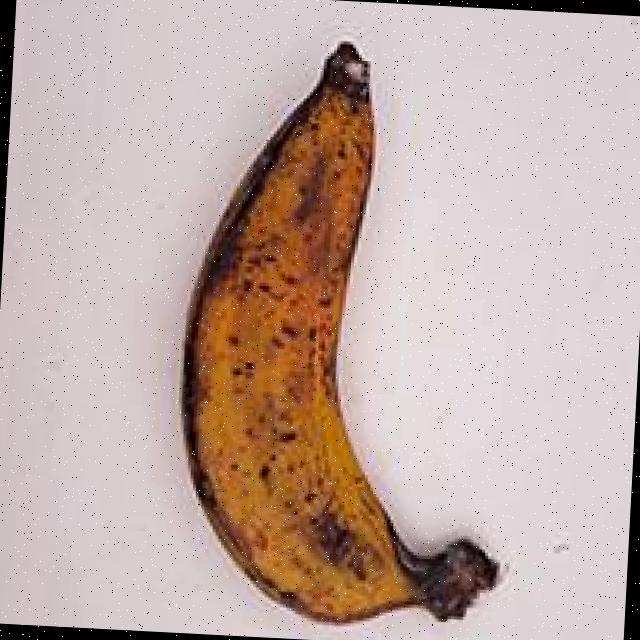Overripe: (148, 1, 572, 640)
